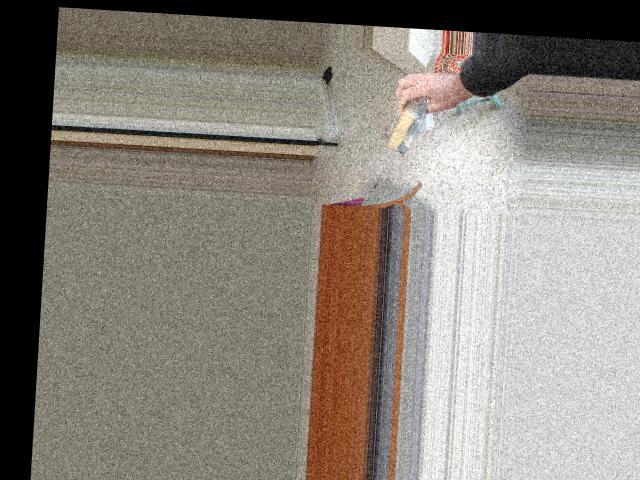cheese: (380, 81, 435, 161)
